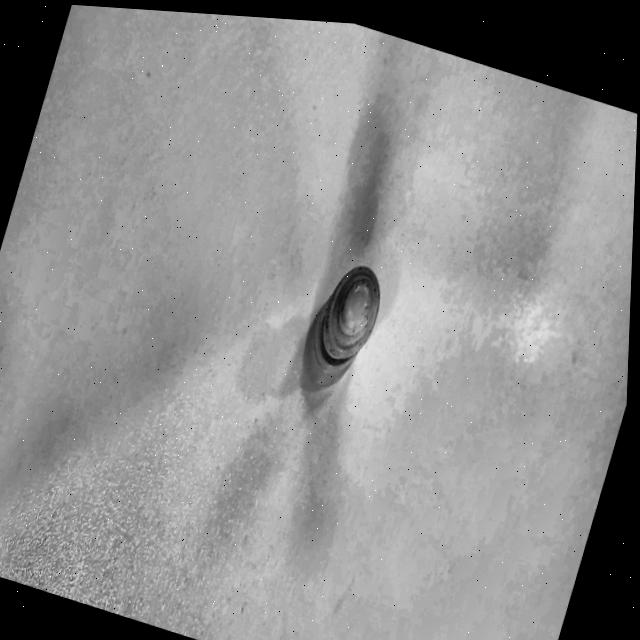white-queen: (253, 208, 446, 487)
